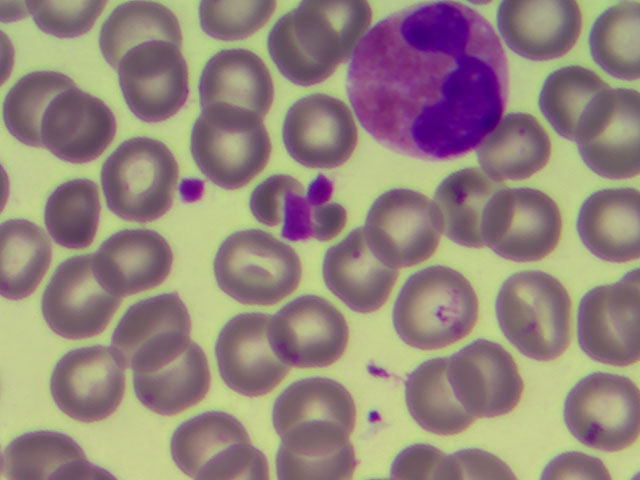Platelets: (285, 194, 312, 240), (309, 175, 334, 202), (182, 175, 206, 202)
RBC: (494, 270, 571, 362), (215, 316, 296, 399), (199, 47, 272, 135), (487, 183, 560, 271), (105, 294, 194, 364), (274, 382, 358, 456), (574, 86, 640, 180), (47, 255, 121, 338), (133, 334, 213, 410), (7, 73, 87, 148), (540, 60, 611, 143), (190, 108, 274, 177), (104, 143, 178, 221), (577, 277, 639, 370), (50, 346, 125, 421), (219, 229, 294, 304), (325, 235, 397, 312), (101, 2, 182, 70), (439, 172, 512, 247), (173, 407, 250, 477), (398, 275, 476, 344), (405, 361, 478, 434), (271, 303, 347, 373), (118, 45, 190, 118), (47, 92, 117, 163), (452, 345, 520, 418), (92, 234, 179, 291), (272, 11, 336, 88), (567, 375, 639, 443), (372, 189, 438, 258), (279, 421, 353, 480), (285, 98, 351, 163), (578, 193, 640, 262), (479, 118, 554, 175), (498, 1, 571, 59), (587, 1, 640, 78), (3, 431, 85, 480), (43, 186, 104, 251), (1, 220, 43, 306), (295, 1, 355, 60), (607, 274, 640, 354), (433, 448, 515, 480), (388, 445, 461, 480), (27, 1, 95, 36), (197, 1, 260, 37), (203, 447, 269, 480), (541, 452, 612, 480), (250, 173, 285, 221), (56, 461, 109, 480)
WBC: (354, 8, 503, 158)
